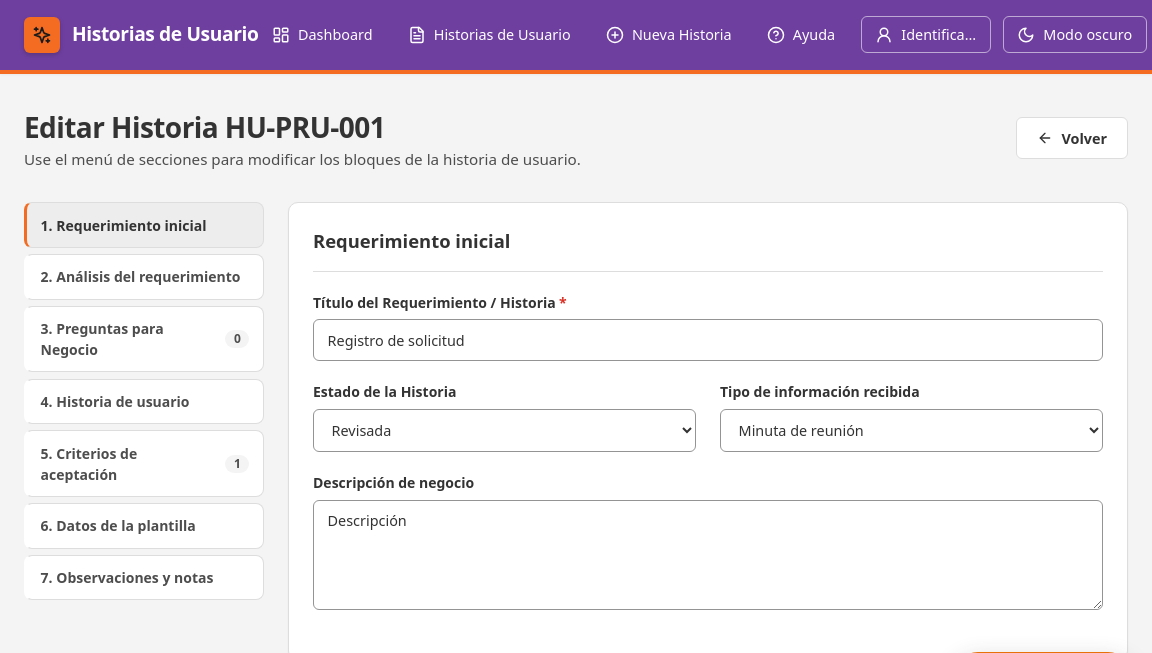
it: edición de criterios de aceptación › no deja guardar un criterio incompleto
The image size is (1152, 653).
Check: the heading "Editar Historia HU-PRU-001" is shown, box [24,108,385,146]
Click the tab "5. Criterios de aceptación 1": (144, 464) [24,430,264,497]
(page scrolled)
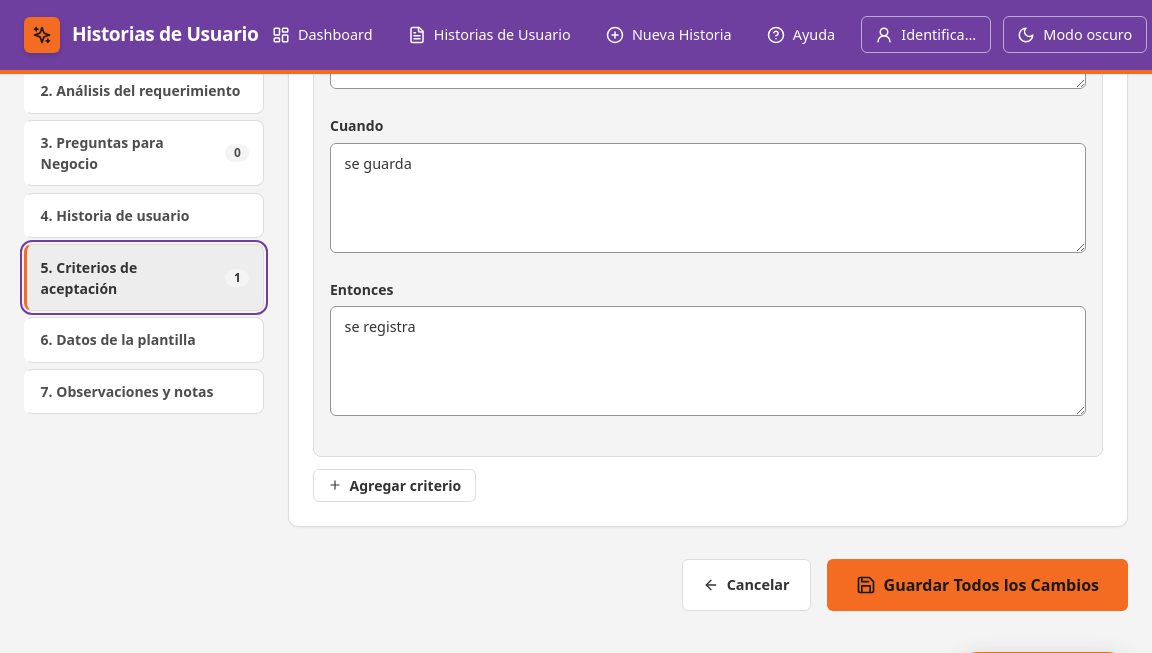
Clear the text box labelled "Entonces": (708, 361) [330,306,1086,416]
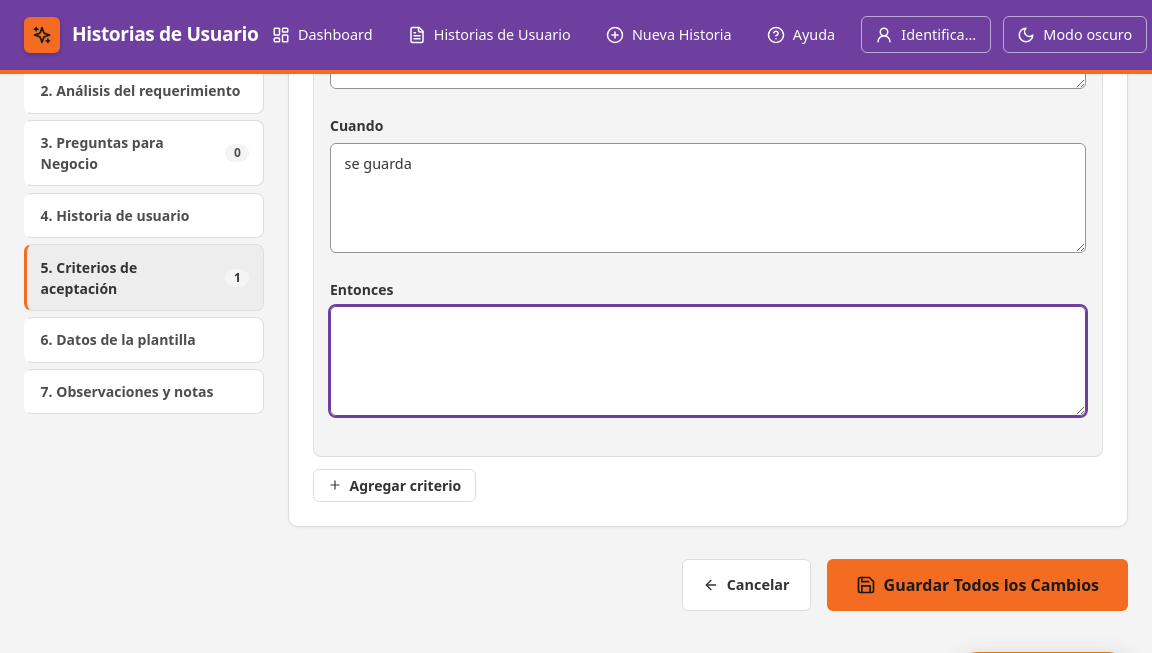
Click the button "Guardar Todos los Cambios": (977, 585) [826,559,1128,610]
(page scrolled)
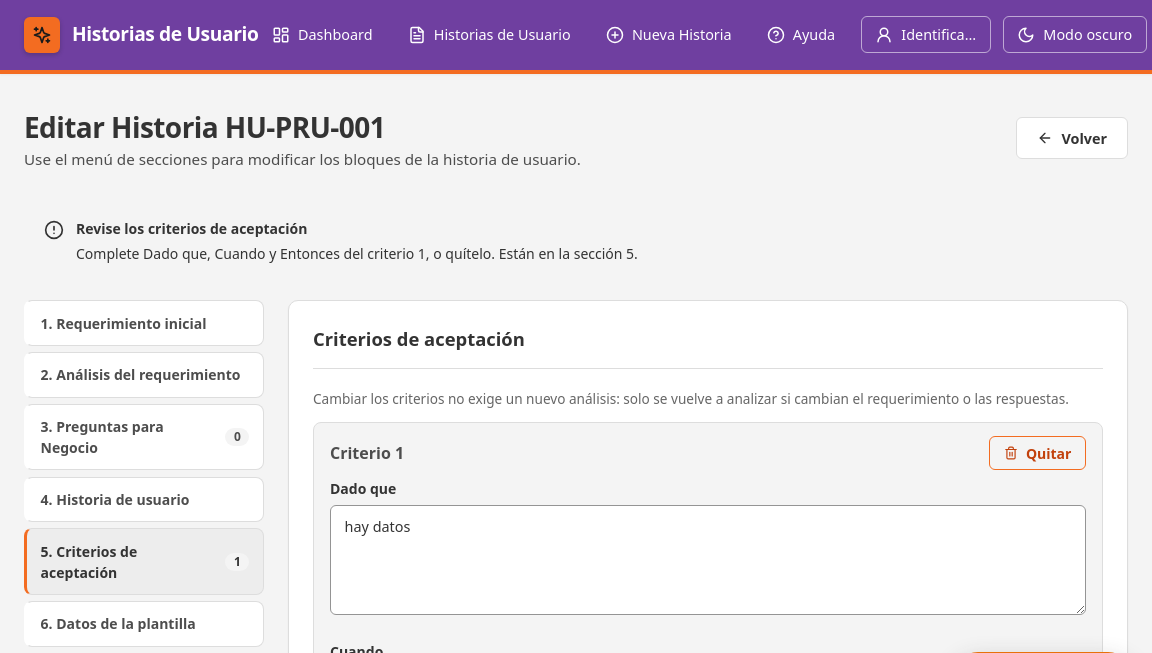
Check: the text "Revise los criterios de aceptación" is shown, box [76,219,307,238]
Check: the text "Complete Dado que, Cuando y Entonces del criterio 1" is shown, box [76,244,495,263]
